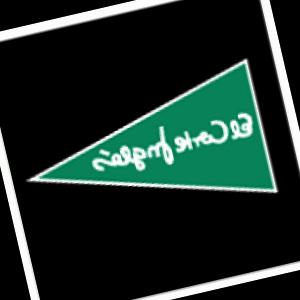corte_ingles: (19, 61, 277, 242)
